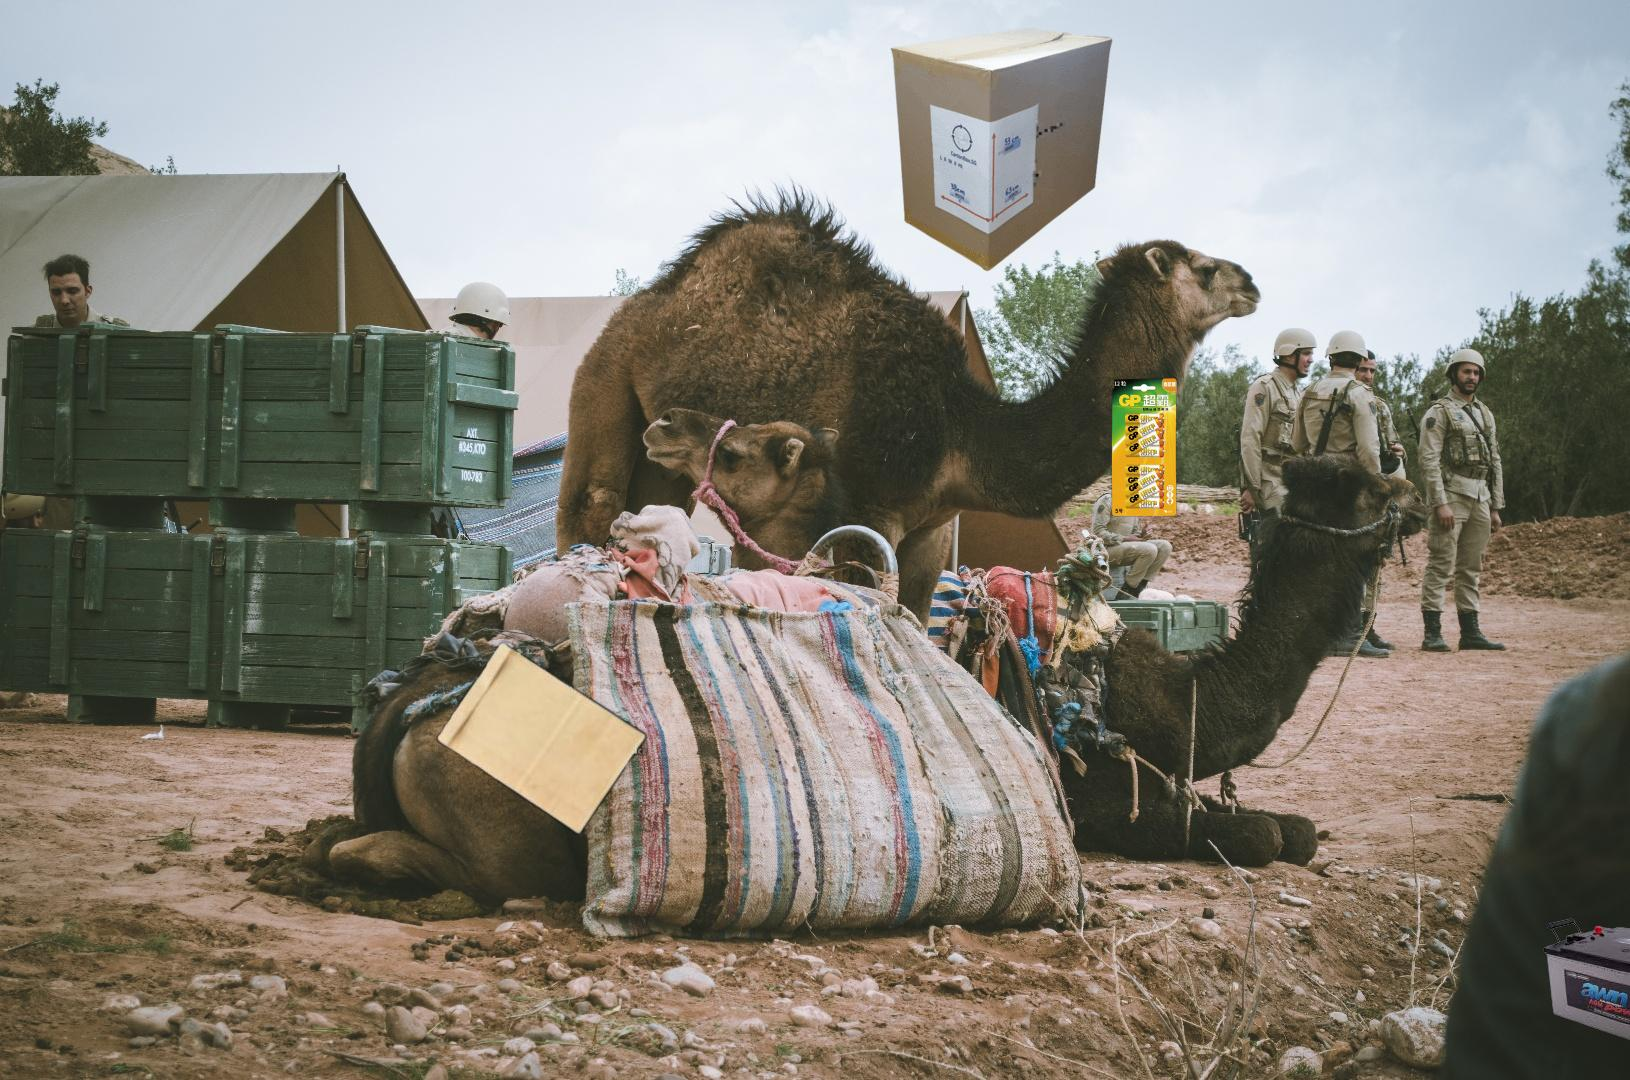battery: (1073, 375, 1179, 520), (1541, 916, 1630, 1066)
paper-bag: (434, 638, 688, 912)
trash: (1193, 1053, 1457, 1080)
trashbox-cardboard: (890, 27, 1113, 272)
